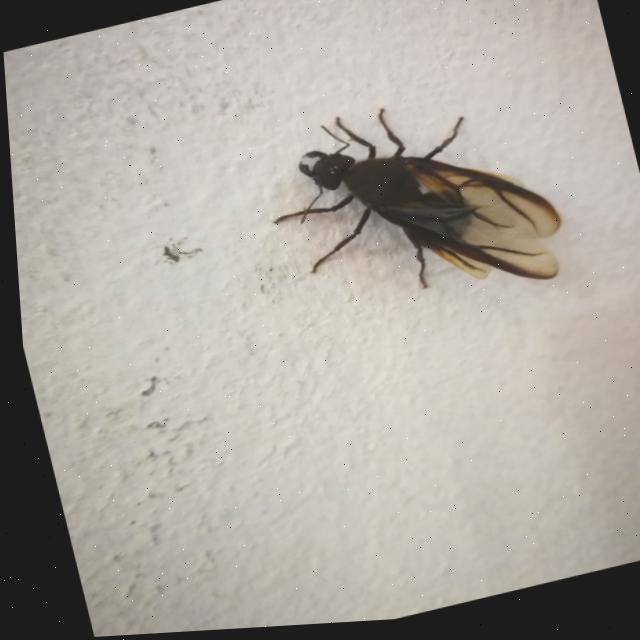Alive-Female-Alate: (246, 76, 572, 343)
